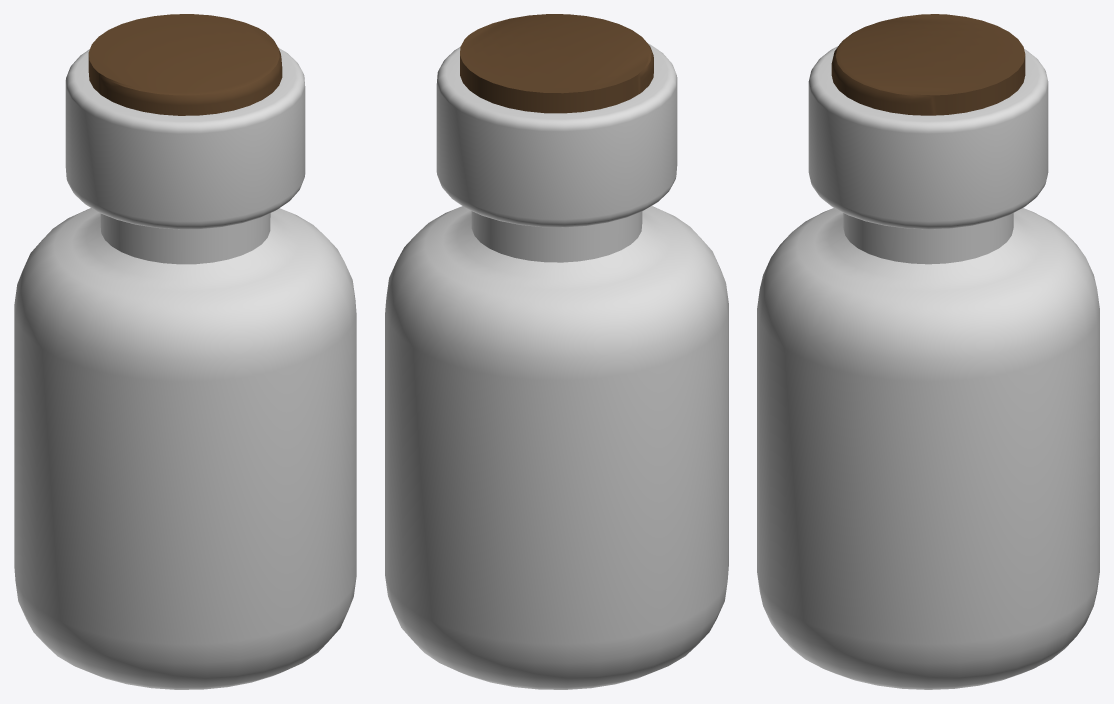
Rendered from PotionMesh.fbx.
3 renders of one model, left to right at view 1: azimuth 30°, elevation 25°; view 2: azimuth 150°, elevation 25°; view 3: azimuth 270°, elevation 25°, orthographic.
Visible parts, largest first — view 1: Cylinder; view 2: Cylinder; view 3: Cylinder.
Part boxes in pixels (left/top/right/bottom): Cylinder: left=14, top=14, right=356, bottom=689; Cylinder: left=385, top=14, right=728, bottom=689; Cylinder: left=757, top=14, right=1099, bottom=689.
Size of the model in its own units: 59.63 by 112 by 59.63.
